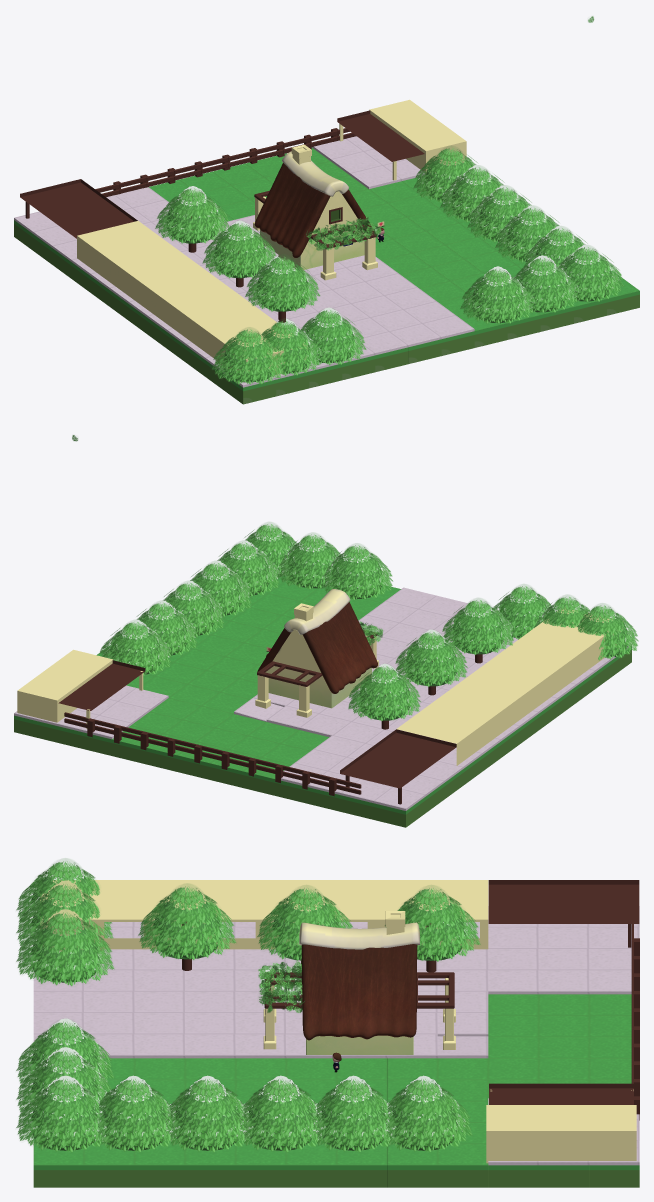
Rendered from escena.glb.
3 views of the same model, one above another, from view 1: azimuth 30°, elevation 25°; view 2: azimuth 150°, elevation 25°; view 3: azimuth 270°, elevation 25° (orthographic). The views are drawn at different scales.
Visible parts, largest first — view 1: suelo, suelo.asfalto, sala, Cube.001, Plane.006, aseo, Cube.025, Cube.024, Cube.019, Cube.023, Cube.020, valla (+13 smaller); view 2: suelo, suelo.asfalto, sala, Cube.001, Plane.006, aseo, Cube.024, Cube, Cube.023, Cube.025, Cube.019, valla (+15 smaller); view 3: suelo, suelo.asfalto, sala, Cube.001, aseo, Plane.006, Cube.025, Cube.022, Cube.012, Cube.017, Cube.015, Cube.014 (+15 smaller).
Boxes of the visible parts, x1,y1,x2,y2 form: suelo: (14, 147, 639, 404); suelo.asfalto: (14, 136, 474, 387); sala: (77, 221, 307, 374); Cube.001: (254, 163, 374, 257); Plane.006: (20, 179, 137, 238); aseo: (369, 99, 466, 172); Cube.025: (245, 254, 320, 311); Cube.024: (155, 186, 229, 243); Cube.019: (460, 267, 533, 323); Cube.023: (202, 221, 276, 278); Cube.020: (211, 327, 284, 384); valla: (95, 128, 356, 197); suelo: (14, 575, 631, 827); suelo.asfalto: (14, 587, 631, 810); sala: (396, 608, 623, 765); Cube.001: (257, 602, 377, 693); Plane.006: (340, 729, 456, 788); aseo: (17, 649, 113, 722); Cube.024: (348, 664, 420, 721); Cube: (265, 629, 371, 708); Cube.023: (395, 630, 467, 686); Cube.025: (442, 598, 514, 654); Cube.019: (321, 543, 392, 600); valla: (64, 712, 361, 794); suelo: (33, 994, 639, 1187); suelo.asfalto: (33, 906, 639, 1165); sala: (40, 880, 488, 951); Cube.001: (301, 944, 417, 1040); aseo: (486, 1105, 636, 1163); Plane.006: (488, 880, 639, 923); Cube.025: (138, 884, 236, 960); Cube.022: (16, 910, 114, 986); Cube.012: (380, 1076, 472, 1152); Cube.017: (16, 1076, 104, 1152); Cube.015: (162, 1076, 249, 1152); Cube.014: (236, 1076, 323, 1152).
Size of the model in its own units: 144 by 57.44 by 124.
5 materials, 2 textured.
